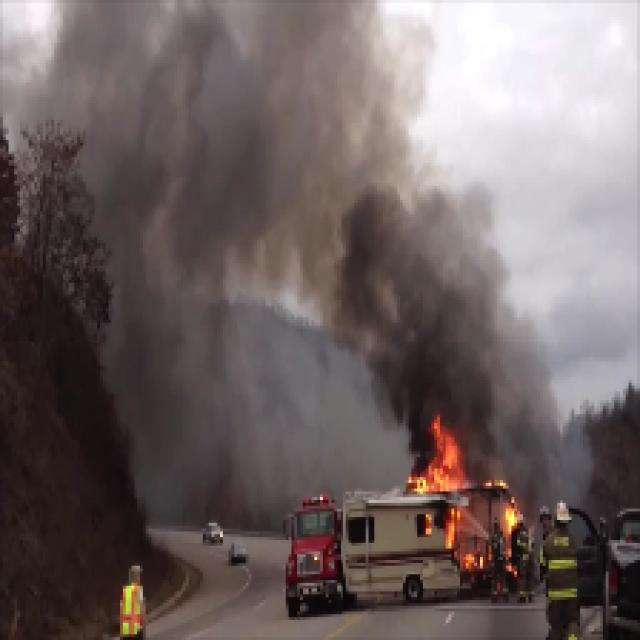fire: (412, 429, 459, 497)
smoke: (93, 37, 401, 254), (370, 270, 502, 415)
